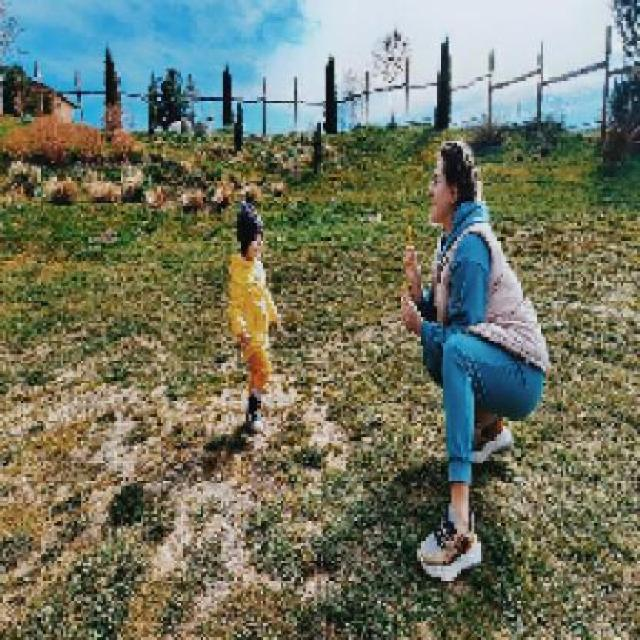child: (224, 186, 282, 434)
